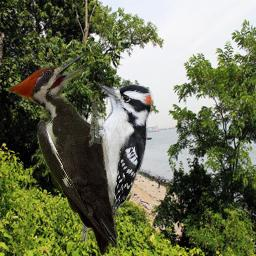Woodpecker: (6, 52, 118, 256), (81, 77, 159, 244)
